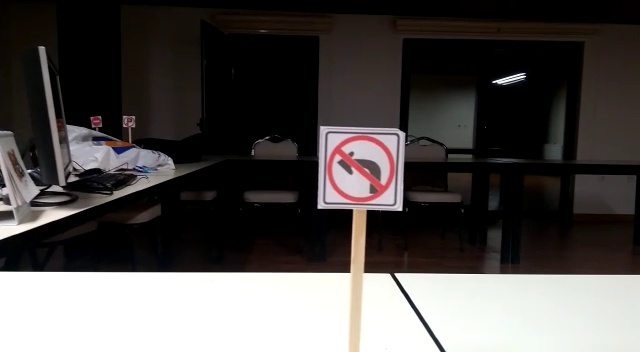sola_donulmez: (320, 126, 400, 209)
